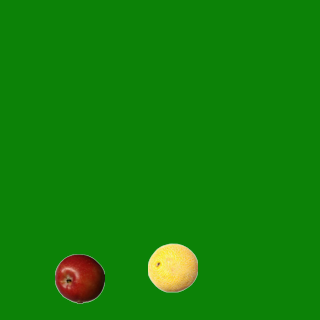Apple Braeburn: (54, 253, 104, 303)
Cantaloupe 1: (147, 242, 197, 292)
